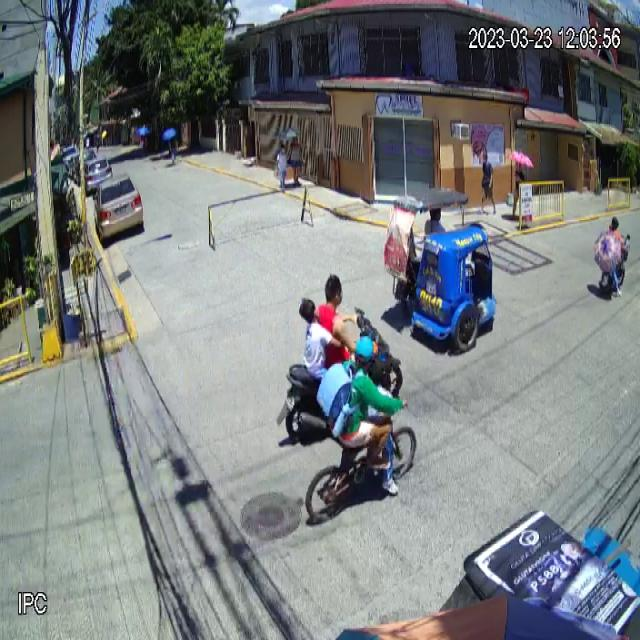Tricycle: (383, 190, 496, 354)
